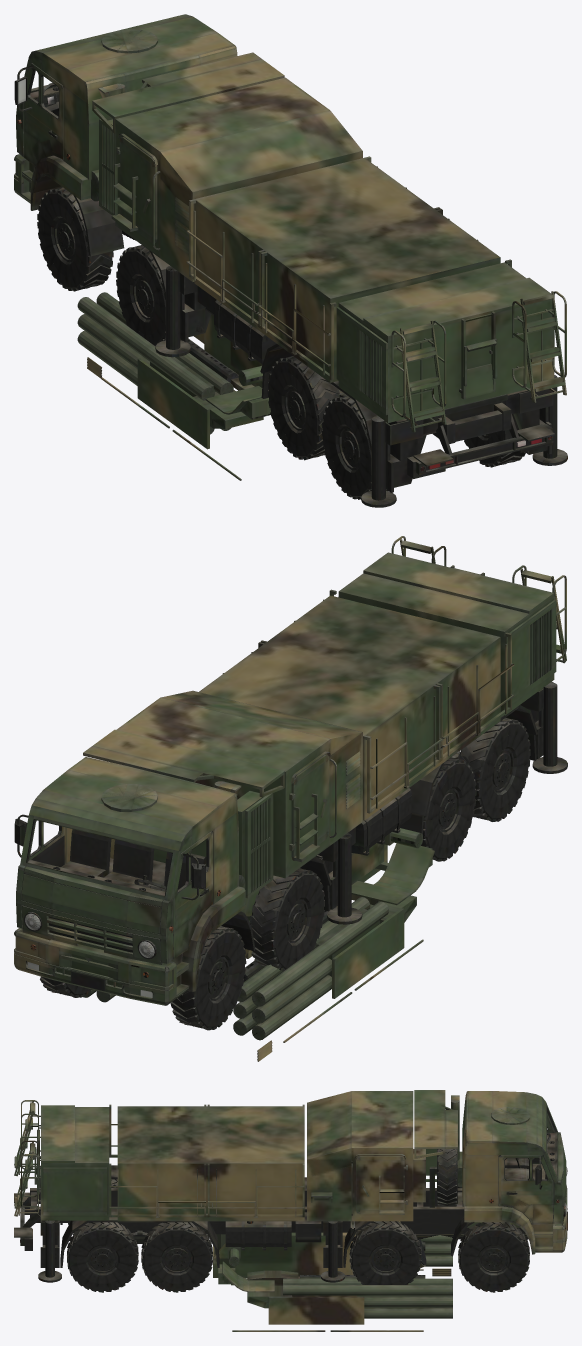
File: pantsir.glb
The picture shows the model from 3 angles, top to bottom: view 1: azimuth 30°, elevation 25°; view 2: azimuth 150°, elevation 25°; view 3: azimuth 270°, elevation 25°; orthographic projection. The views are drawn at different scales.
Visible parts, largest first — view 1: body|PS_paint, cradle|PS_paint, turret|PS_paint; view 2: body|PS_paint, cradle|PS_paint, turret|PS_paint; view 3: body|PS_paint, cradle|PS_paint, turret|PS_paint.
Part boxes in pixels (bbox=[...]): body|PS_paint: bbox=[14, 14, 567, 507]; cradle|PS_paint: bbox=[77, 292, 263, 480]; turret|PS_paint: bbox=[194, 314, 270, 419]; body|PS_paint: bbox=[14, 536, 567, 1030]; cradle|PS_paint: bbox=[83, 895, 423, 1061]; turret|PS_paint: bbox=[241, 828, 434, 958]; body|PS_paint: bbox=[14, 1090, 567, 1292]; cradle|PS_paint: bbox=[232, 1235, 452, 1331]; turret|PS_paint: bbox=[213, 1221, 426, 1292].
Bounding box in the file's own units: 3.1 × 4.08 × 10.75.
4 materials, 4 textured.
